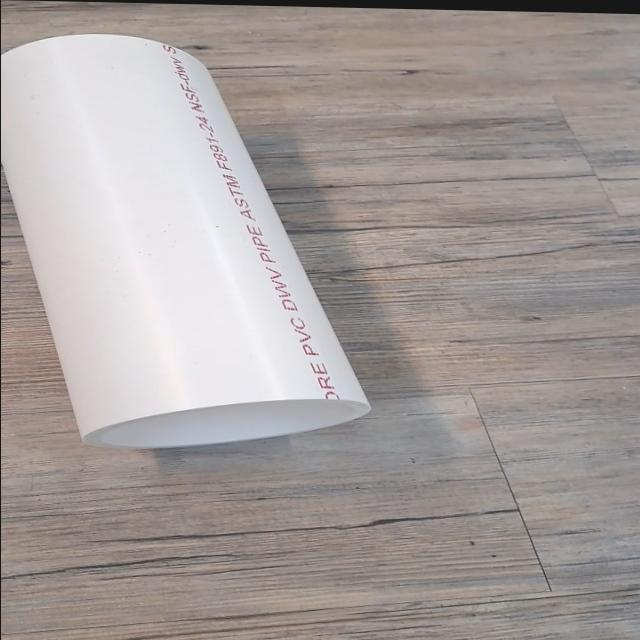CORAL: (0, 21, 390, 463)
